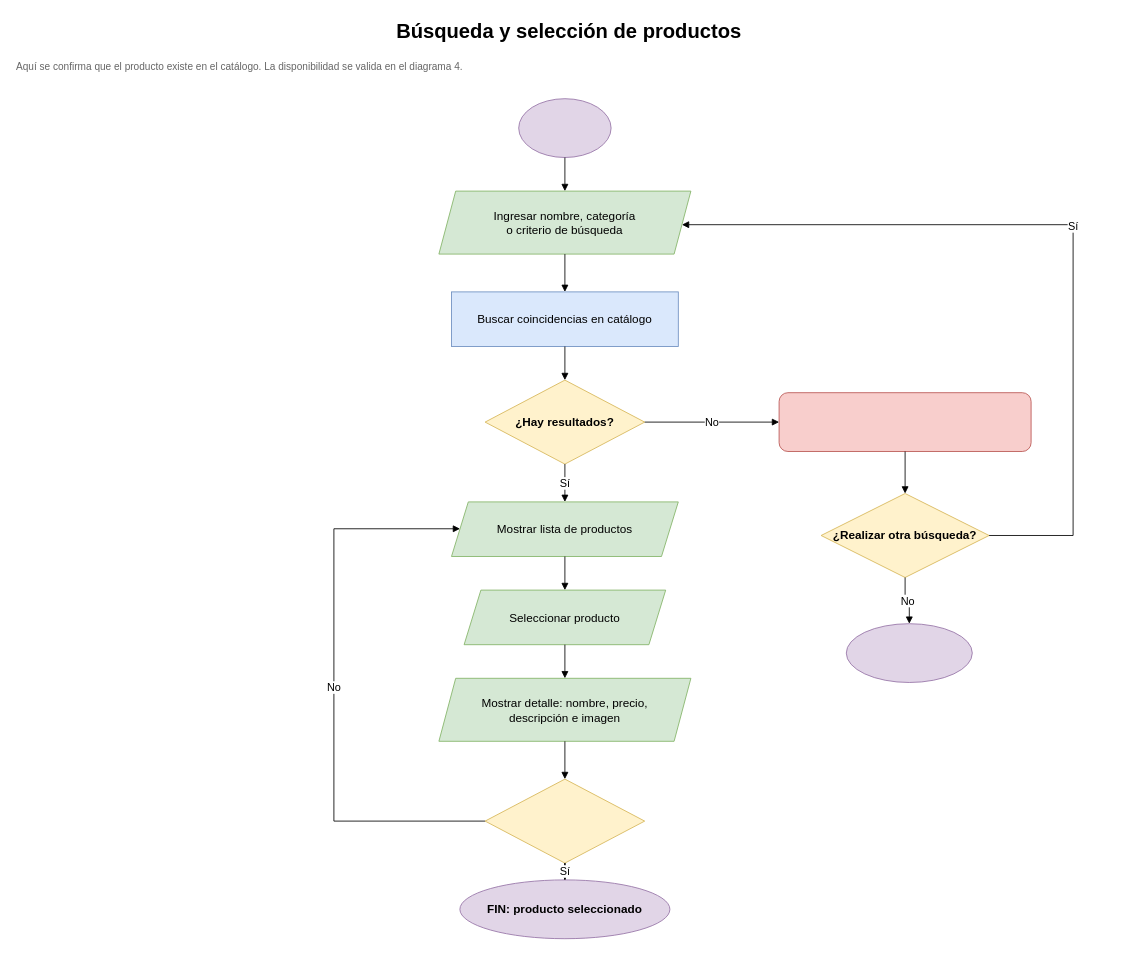
Some shapes in this 1137 by 953 pixel diagram are drawn without their labels. Each missing label, with the centre of its shape:
FIN: salir de búsqueda: (908,652)
INICIO: (564,128)
Mostrar: “No se encontraron productos”: (904,422)
¿Seleccionar este producto?: (564,820)
